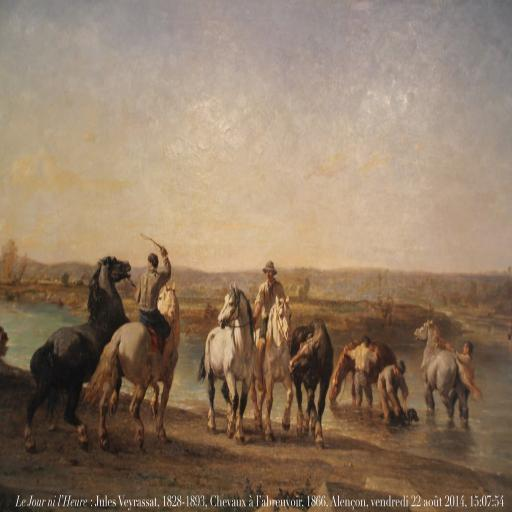horse: (25, 254, 131, 456), (82, 280, 181, 453), (196, 280, 258, 446), (414, 317, 486, 424), (249, 296, 293, 443), (286, 320, 334, 449), (326, 340, 398, 404)
